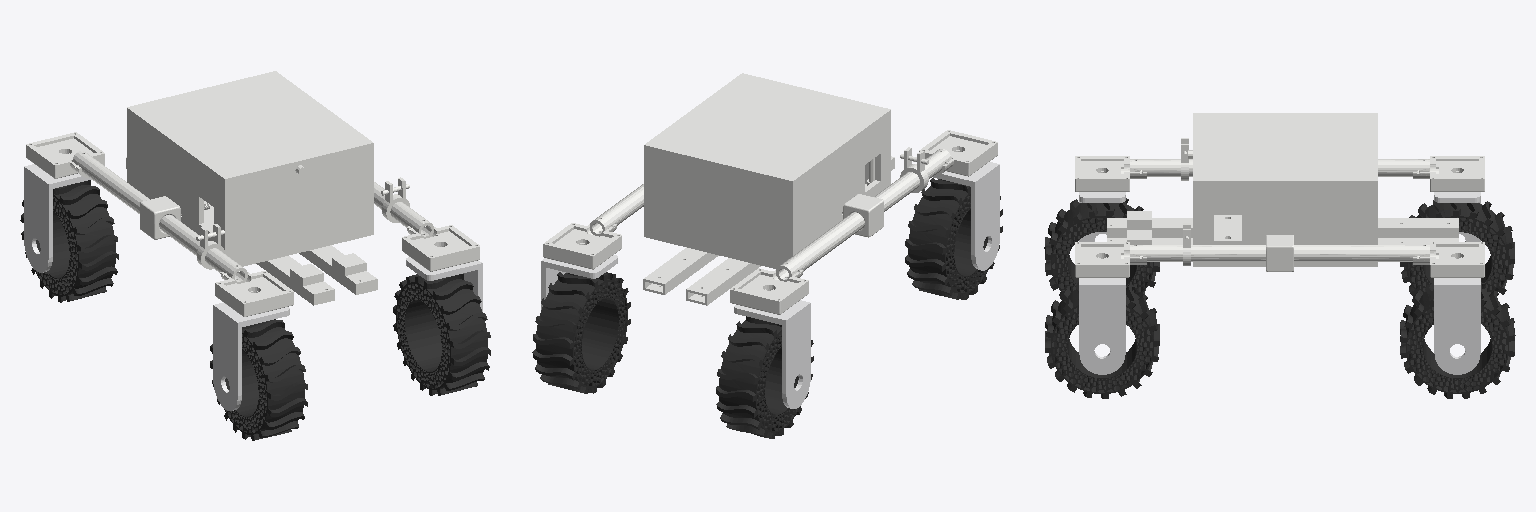
robot.urdf — robot_mk2:
<?xml version="1.0" ?>
<!-- =================================================================================== -->
<!-- |    This document was autogenerated by xacro from robot_mk2.urdf.xacro           | -->
<!-- |    EDITING THIS FILE BY HAND IS NOT RECOMMENDED                                 | -->
<!-- =================================================================================== -->
<robot name="robot_mk2">
  <!-- Base Link  -->
  <link name="base_link">
    <inertial>
      <origin rpy="0 0 0" xyz="1.5107E-12 -0.010391 0.059342"/>
      <mass value="3.9684"/>
      <inertia ixx="0.068308" ixy="2.8787E-12" ixz="-8.8418E-14" iyy="0.03715" iyz="0.00010785" izz="0.091228"/>
    </inertial>
    <visual>
      <origin rpy="0 0 0" xyz="0 0 0"/>
      <geometry>
        <mesh filename="package://rovermk2_description/meshes/base_link.STL"/>
      </geometry>
      <material name="">
        <color rgba="0.96471 0.96471 0.95294 1"/>
      </material>
    </visual>
    <collision>
      <origin rpy="0 0 0" xyz="0 0 0"/>
      <geometry>
        <mesh filename="package://rovermk2_description/meshes/base_link.STL"/>
      </geometry>
    </collision>
  </link>
  <!-- Suspension Links -->
  <link name="suspension_left">
    <inertial>
      <origin rpy="0 0 0" xyz="-0.085081 0.00042119 -0.0073347"/>
      <mass value="0.69456"/>
      <inertia ixx="0.00041573" ixy="-1.6646E-10" ixz="-3.1978E-09" iyy="0.0014467" iyz="2.2187E-10" izz="0.0017365"/>
    </inertial>
    <visual>
      <origin rpy="0 0 0" xyz="0 0 0"/>
      <geometry>
        <mesh filename="package://rovermk2_description/meshes/suspension_1.STL"/>
      </geometry>
      <material name="">
        <color rgba="0.96471 0.96471 0.95294 1"/>
      </material>
    </visual>
    <collision>
      <origin rpy="0 0 0" xyz="0 0 0"/>
      <geometry>
        <mesh filename="package://rovermk2_description/meshes/suspension_1.STL"/>
      </geometry>
    </collision>
  </link>
  <link name="suspension_right">
    <inertial>
      <origin rpy="0 0 0" xyz="0.0048172 -0.047933 -0.0073349"/>
      <mass value="0.69456"/>
      <inertia ixx="0.00041573" ixy="-2.7089E-10" ixz="3.1961E-09" iyy="0.0014467" iyz="1.1348E-07" izz="0.0017365"/>
    </inertial>
    <visual>
      <origin rpy="0 0 0" xyz="0 0 0"/>
      <geometry>
        <mesh filename="package://rovermk2_description/meshes/suspension_2.STL"/>
      </geometry>
      <material name="">
        <color rgba="0.96471 0.96471 0.95294 1"/>
      </material>
    </visual>
    <collision>
      <origin rpy="0 0 0" xyz="0 0 0"/>
      <geometry>
        <mesh filename="package://rovermk2_description/meshes/suspension_2.STL"/>
      </geometry>
    </collision>
  </link>
  <!-- Suspension Joints Closed Loop thus with gazebo tags -->
  <joint name="susleft_joint" type="fixed">
    <origin rpy="0 0 -1.5708" xyz="-0.175 -0.1 0.043"/>
    <parent link="base_link"/>
    <child link="suspension_left"/>
    <axis xyz="0 1 0"/>
    <limit effort="100" lower="-0.174" upper="0.174" velocity="1"/>
  </joint>
  <joint name="susright_joint" type="fixed">
    <origin rpy="0 1.7626E-05 -1.5708" xyz="0.2225 -0.01 0.043"/>
    <parent link="base_link"/>
    <child link="suspension_right"/>
    <axis xyz="0 1 0"/>
    <limit effort="100" lower="-0.174" upper="0.174" velocity="1"/>
  </joint>
  <!-- Steer Joints and Links -->
  <!-- Steer Front Left Joint and Link -->
  <link name="steerFL">
    <inertial>
      <origin rpy="0 0 0" xyz="-2.2204E-15 -0.032335 -0.05247"/>
      <mass value="0.1576"/>
      <inertia ixx="0.00057382" ixy="7.8164E-19" ixz="1.4837E-18" iyy="0.00051647" iyz="-0.00013791" izz="0.00023455"/>
    </inertial>
    <visual>
      <origin rpy="0 0 0" xyz="0 0 0"/>
      <geometry>
        <mesh filename="package://rovermk2_description/meshes/Steer_FL_1.STL"/>
      </geometry>
      <material name="">
        <color rgba="0.96078 0.96078 0.96471 1"/>
      </material>
    </visual>
    <collision>
      <origin rpy="0 0 0" xyz="0 0 0"/>
      <geometry>
        <mesh filename="package://rovermk2_description/meshes/Steer_FL_1.STL"/>
      </geometry>
    </collision>
  </link>
  <joint name="steerFL_joint" type="continuous">
    <origin rpy="0 0 0" xyz="-0.3975 0 -0.035"/>
    <parent link="suspension_left"/>
    <child link="steerFL"/>
    <axis xyz="0 0 1"/>
    <!-- <limit lower="0" upper="0" effort="0" velocity="0"/> -->
  </joint>
  <!-- Steer Front Right Joint and Link -->
  <link name="steer_FR">
    <inertial>
      <origin rpy="0 0 0" xyz="0.3075 0.025165 -0.08747"/>
      <mass value="0.1576"/>
      <inertia ixx="0.00057382" ixy="-5.4704E-17" ixz="-1.3425E-16" iyy="0.00051647" iyz="-0.00013791" izz="0.00023455"/>
    </inertial>
    <visual>
      <origin rpy="0 0 0" xyz="0 0 0"/>
      <geometry>
        <mesh filename="package://rovermk2_description/meshes/steer_FR.STL"/>
      </geometry>
      <material name="">
        <color rgba="0.96078 0.96078 0.96471 1"/>
      </material>
    </visual>
    <collision>
      <origin rpy="0 0 0" xyz="0 0 0"/>
      <geometry>
        <mesh filename="package://rovermk2_description/meshes/steer_FR.STL"/>
      </geometry>
    </collision>
  </link>
  <joint name="steerFR_joint" type="continuous">
    <origin rpy="0 0 3.1416" xyz="0 0.01 0"/>
    <parent link="suspension_right"/>
    <child link="steer_FR"/>
    <axis xyz="5.9526E-05 0 1"/>
    <!-- <limit lower="0" upper="0" effort="0" velocity="0"/> -->
  </joint>
  <!-- Steer Back Left Joint and Link -->
  <link name="steer_BL">
    <inertial>
      <origin rpy="0 0 0" xyz="-2.7756E-15 -0.032335 -0.05247"/>
      <mass value="0.1576"/>
      <inertia ixx="0.00057382" ixy="-9.7292E-20" ixz="-4.0506E-19" iyy="0.00051647" iyz="-0.00013791" izz="0.00023455"/>
    </inertial>
    <visual>
      <origin rpy="0 0 0" xyz="0 0 0"/>
      <geometry>
        <mesh filename="package://rovermk2_description/meshes/steer_BL.STL"/>
      </geometry>
      <material name="">
        <color rgba="0.96078 0.96078 0.96471 1"/>
      </material>
    </visual>
    <collision>
      <origin rpy="0 0 0" xyz="0 0 0"/>
      <geometry>
        <mesh filename="package://rovermk2_description/meshes/steer_BL.STL"/>
      </geometry>
    </collision>
  </link>
  <joint name="steerBL_joint" type="continuous">
    <origin rpy="0 0 0" xyz="0.2175 0 -0.035"/>
    <parent link="suspension_left"/>
    <child link="steer_BL"/>
    <axis xyz="0 0 1"/>
    <!-- <limit lower="0" upper="0" effort="0" velocity="0"/> -->
  </joint>
  <!-- Steer Back Right Joint and Link-->
  <link name="steer_BR">
    <inertial>
      <origin rpy="0 0 0" xyz="-0.30751 0.021928 -0.087669"/>
      <mass value="0.1576"/>
      <inertia ixx="0.00057382" ixy="-5.2157E-17" ixz="-1.2839E-16" iyy="0.00051647" iyz="-0.00013791" izz="0.00023455"/>
    </inertial>
    <visual>
      <origin rpy="0 0 0" xyz="0 0 0"/>
      <geometry>
        <mesh filename="package://rovermk2_description/meshes/steer_BR.STL"/>
      </geometry>
      <material name="">
        <color rgba="0.96078 0.96078 0.96471 1"/>
      </material>
    </visual>
    <collision>
      <origin rpy="0 0 0" xyz="0 0 0"/>
      <geometry>
        <mesh filename="package://rovermk2_description/meshes/steer_BR.STL"/>
      </geometry>
    </collision>
  </link>
  <joint name="steerBR_joint" type="continuous">
    <origin rpy="0 0 3.1416" xyz="0 0.0067628 0.00019885"/>
    <parent link="suspension_right"/>
    <child link="steer_BR"/>
    <axis xyz="5.9526E-05 0 1"/>
    <!-- <limit lower="0" upper="0" effort="0" velocity="0"/> -->
  </joint>
  <!-- All Wheels Joints and Links -->
  <link name="wheelFL">
    <inertial>
      <origin rpy="0 0 0" xyz="-1.2482E-05 1.1067E-05 -9.9464E-06"/>
      <mass value="0.57698"/>
      <inertia ixx="0.0021487" ixy="-1.7024E-08" ixz="-8.7398E-08" iyy="0.0038235" iyz="8.3831E-09" izz="0.0021487"/>
    </inertial>
    <visual>
      <origin rpy="0 0 0" xyz="0 0 0"/>
      <geometry>
        <mesh filename="package://rovermk2_description/meshes/wheelFL.STL"/>
      </geometry>
      <material name="">
        <color rgba="0.24706 0.24706 0.24706 1"/>
      </material>
    </visual>
    <collision>
      <origin rpy="0 0 0" xyz="0 0 0"/>
      <geometry>
        <mesh filename="package://rovermk2_description/meshes/wheelFL.STL"/>
      </geometry>
    </collision>
  </link>
  <joint name="wheelFL_joint" type="continuous">
    <origin rpy="0 -0.031506 3.1416" xyz="0 0.008 -0.127"/>
    <parent link="steerFL"/>
    <child link="wheelFL"/>
    <axis xyz="0 -1 0"/>
    <!-- <limit lower="0" upper="0" effort="0" velocity="0"/> -->
  </joint>
  <link name="wheelBL">
    <inertial>
      <origin rpy="0 0 0" xyz="-1.4946E-05 8.1816E-06 -7.8177E-06"/>
      <mass value="0.57701"/>
      <inertia ixx="0.0021482" ixy="-3.9981E-08" ixz="-7.3417E-08" iyy="0.0038226" iyz="-2.1036E-08" izz="0.0021482"/>
    </inertial>
    <visual>
      <origin rpy="0 0 0" xyz="0 0 0"/>
      <geometry>
        <mesh filename="package://rovermk2_description/meshes/wheelBL.STL"/>
      </geometry>
      <material name="">
        <color rgba="0.24706 0.24706 0.24706 1"/>
      </material>
    </visual>
    <collision>
      <origin rpy="0 0 0" xyz="0 0 0"/>
      <geometry>
        <mesh filename="package://rovermk2_description/meshes/wheelBL.STL"/>
      </geometry>
    </collision>
  </link>
  <joint name="wheelBL_joint" type="continuous">
    <origin rpy="0 -0.19461 3.1416" xyz="0 0.008 -0.127"/>
    <parent link="steer_BL"/>
    <child link="wheelBL"/>
    <axis xyz="0 -1 0"/>
    <!-- <limit lower="0" upper="0" effort="0" velocity="0"/> -->
  </joint>
  <link name="wheelFR">
    <inertial>
      <origin rpy="0 0 0" xyz="-1.5082E-05 8.1816E-06 -6.5794E-06"/>
      <mass value="0.57701"/>
      <inertia ixx="0.0021486" ixy="-4.1925E-08" ixz="-2.4022E-08" iyy="0.0038235" iyz="-1.3635E-08" izz="0.0021489"/>
    </inertial>
    <visual>
      <origin rpy="0 0 0" xyz="0 0 0"/>
      <geometry>
        <mesh filename="package://rovermk2_description/meshes/wheelFR.STL"/>
      </geometry>
      <material name="">
        <color rgba="0.24706 0.24706 0.24706 1"/>
      </material>
    </visual>
    <collision>
      <origin rpy="0 0 0" xyz="0 0 0"/>
      <geometry>
        <mesh filename="package://rovermk2_description/meshes/wheelFR.STL"/>
      </geometry>
    </collision>
  </link>
  <joint name="wheelFR_joint" type="continuous">
    <origin rpy="0 -0.48916 0" xyz="0.3075 0.0555 -0.162"/>
    <parent link="steer_FR"/>
    <child link="wheelFR"/>
    <axis xyz="0 -1 0"/>
    <!-- <limit lower="0" upper="0" effort="0" velocity="0"/> -->
  </joint>
  <link name="wheelBR">
    <inertial>
      <origin rpy="0 0 0" xyz="-1.3322E-05 9.8794E-06 -8.7944E-06"/>
      <mass value="0.577"/>
      <inertia ixx="0.0021487" ixy="-1.7024E-08" ixz="-8.7398E-08" iyy="0.0038235" iyz="8.3831E-09" izz="0.0021487"/>
    </inertial>
    <visual>
      <origin rpy="0 0 0" xyz="0 0 0"/>
      <geometry>
        <mesh filename="package://rovermk2_description/meshes/wheelBR.STL"/>
      </geometry>
      <material name="">
        <color rgba="0.24706 0.24706 0.24706 1"/>
      </material>
    </visual>
    <collision>
      <origin rpy="0 0 0" xyz="0 0 0"/>
      <geometry>
        <mesh filename="package://rovermk2_description/meshes/wheelBR.STL"/>
      </geometry>
    </collision>
  </link>
  <joint name="wheelBR_joint" type="continuous">
    <origin rpy="0 -0.069204 0" xyz="-0.30751 0.052263 -0.1622"/>
    <parent link="steer_BR"/>
    <child link="wheelBR"/>
    <axis xyz="0 -1 0"/>
    <!-- <limit lower="0" upper="0" effort="0" velocity="0"/> -->
  </joint>
  <link name="imu_link">
    <visual>
      <geometry>
        <box size="0.01 0.01 0.01"/>
      </geometry>
    </visual>
    <inertial>
      <mass value="0.001"/>
      <inertia ixx="0.0001" ixy="0" ixz="0" iyy="0.0001" iyz="0" izz="0.0001"/>
    </inertial>
  </link>
  <joint name="imu_joint" type="fixed">
    <parent link="base_link"/>
    <!-- change to your parent link -->
    <child link="imu_link"/>
    <origin rpy="0 0 0" xyz="0 0 0"/>
  </joint>
  <gazebo reference="imu_link">
    <sensor name="imu_sensor" type="imu">
      <always_on>1</always_on>
      <update_rate>100</update_rate>
      <visualize>true</visualize>
      <topic>imu</topic>
      <ignition_frame_id>imu_link</ignition_frame_id>
    </sensor>
  </gazebo>
  <!-- Depth Camera Link -->
  <!-- <link name="depth_camera_link">
    <visual>
        <geometry>
        <box size="0.025 0.09 0.025"/>
        </geometry>
        <material name="black"/>
    </visual>
    <collision>
        <geometry>
        <box size="0.025 0.09 0.025"/>
        </geometry>
    </collision>
    <inertial>
        <mass value="0.1"/>
        <inertia ixx="0.001" ixy="0" ixz="0" iyy="0.001" iyz="0" izz="0.001"/>
    </inertial>
    </link> -->
  <!-- Joint attaching camera to robot -->
  <!-- <joint name="depth_camera_joint" type="fixed">
        <parent link="base_link"/>
        <child link="depth_camera_link"/>
        <origin xyz="0 0 0.5" rpy="0 0 0"/>
    </joint> -->
  <!-- Optical frame (required for ROS image conventions) -->
  <!-- <link name="depth_camera_optical_frame"/>
        <joint name="depth_camera_optical_joint" type="fixed">
        <parent link="depth_camera_link"/>
        <child link="depth_camera_optical_frame"/>
        <origin xyz="0 0 0.5" rpy="-1.5708 0 -1.5708"/>
    </joint>

    <gazebo reference="depth_camera_link">
    <sensor name="depth_camera" type="depth_camera">
        <always_on>true</always_on>
        <update_rate>30</update_rate>
        <camera>
        <horizontal_fov>1.047</horizontal_fov>
        <image>
            <width>640</width>
            <height>480</height>
            <format>R_FLOAT32</format>
        </image>
        <clip>
            <near>0.1</near>
            <far>10.0</far>
        </clip>
        </camera>
        <plugin
        filename="libignition-gazebo6-sensors-system.so"
        name="ignition::gazebo::systems::Sensors">
        <render_engine>ogre2</render_engine>
        </plugin>
    </sensor>
    </gazebo> -->
  <ros2_control name="rovermk2" type="system">
    <hardware>
      <plugin>gz_ros2_control/GazeboSimSystem</plugin>
    </hardware>
    <!-- Drive Joints -->
    <joint name="wheelFL_joint">
      <command_interface name="velocity"/>
      <state_interface name="velocity"/>
      <state_interface name="position"/>
    </joint>
    <joint name="wheelFR_joint">
      <command_interface name="velocity"/>
      <state_interface name="velocity"/>
      <state_interface name="position"/>
    </joint>
    <joint name="wheelBL_joint">
      <command_interface name="velocity"/>
      <state_interface name="velocity"/>
      <state_interface name="position"/>
    </joint>
    <joint name="wheelBR_joint">
      <command_interface name="velocity"/>
      <state_interface name="velocity"/>
      <state_interface name="position"/>
    </joint>
    <!-- Steer Joints -->
    <joint name="steerFL_joint">
      <command_interface name="position"/>
      <state_interface name="position"/>
      <state_interface name="velocity"/>
    </joint>
    <joint name="steerFR_joint">
      <command_interface name="position"/>
      <state_interface name="position"/>
      <state_interface name="velocity"/>
    </joint>
    <joint name="steerBL_joint">
      <command_interface name="position"/>
      <state_interface name="position"/>
      <state_interface name="velocity"/>
    </joint>
    <joint name="steerBR_joint">
      <command_interface name="position"/>
      <state_interface name="position"/>
      <state_interface name="velocity"/>
    </joint>
  </ros2_control>
  <!-- Ignition ros2_control plugin -->
  <gazebo>
    <plugin filename="libgz_ros2_control-system.so" name="gz_ros2_control::GazeboSimROS2ControlPlugin">
      <parameters>/home/arpit/urdf_ws/install/rovermk2_description/share/rovermk2_description/config/controller.yaml</parameters>
    </plugin>
  </gazebo>
</robot>

--- What the picture shows (computed from the rendered views, not written in the file) ---
3 views of the same robot in one strip: view 1: azimuth 30°, elevation 25°; view 2: azimuth 150°, elevation 25°; view 3: azimuth 270°, elevation 25° (orthographic).
Model robot_mk2 with 12 links and 11 joints (8 continuous, 3 fixed), rooted at base_link, posed all joints at 0.
Visible links, largest first — view 1: base_link, suspension_left, wheelBR, wheelBL, wheelFL, suspension_right, steer_BL, steerFL, steer_BR; view 2: base_link, suspension_left, wheelFR, wheelBL, wheelFL, suspension_right, steerFL, steer_BL, steer_FR; view 3: base_link, suspension_right, suspension_left, wheelFR, wheelBR, wheelBL, wheelFL, steer_BR, steer_FR, steer_BL, steerFL.
Link boxes in pixels (<box>): base_link: <box>126,71,377,305</box>; suspension_left: <box>26,132,293,316</box>; wheelBR: <box>393,274,490,395</box>; wheelBL: <box>210,319,307,440</box>; wheelFL: <box>20,180,118,302</box>; suspension_right: <box>374,177,479,271</box>; steer_BL: <box>213,302,289,410</box>; steerFL: <box>24,164,91,272</box>; steer_BR: <box>406,257,482,311</box>; base_link: <box>643,73,894,305</box>; suspension_left: <box>730,130,997,314</box>; wheelFR: <box>532,272,630,393</box>; wheelBL: <box>905,178,1002,299</box>; wheelFL: <box>716,316,813,438</box>; suspension_right: <box>543,184,643,269</box>; steerFL: <box>734,300,810,408</box>; steer_BL: <box>933,162,999,270</box>; steer_FR: <box>541,255,617,309</box>; base_link: <box>1107,113,1458,266</box>; suspension_right: <box>1075,223,1484,277</box>; suspension_left: <box>1075,138,1484,191</box>; wheelFR: <box>1400,282,1515,398</box>; wheelBR: <box>1045,282,1159,398</box>; wheelBL: <box>1044,198,1159,299</box>; wheelFL: <box>1400,200,1514,295</box>; steer_BR: <box>1079,278,1125,374</box>; steer_FR: <box>1434,278,1480,374</box>; steer_BL: <box>1079,192,1125,241</box>; steerFL: <box>1434,192,1480,241</box>.
Bounding box of the posed robot: 0.46 × 0.8158 × 0.3844 m (x, y, z).
11 mesh visuals loaded from 11 distinct referenced files (11 binary STL).
